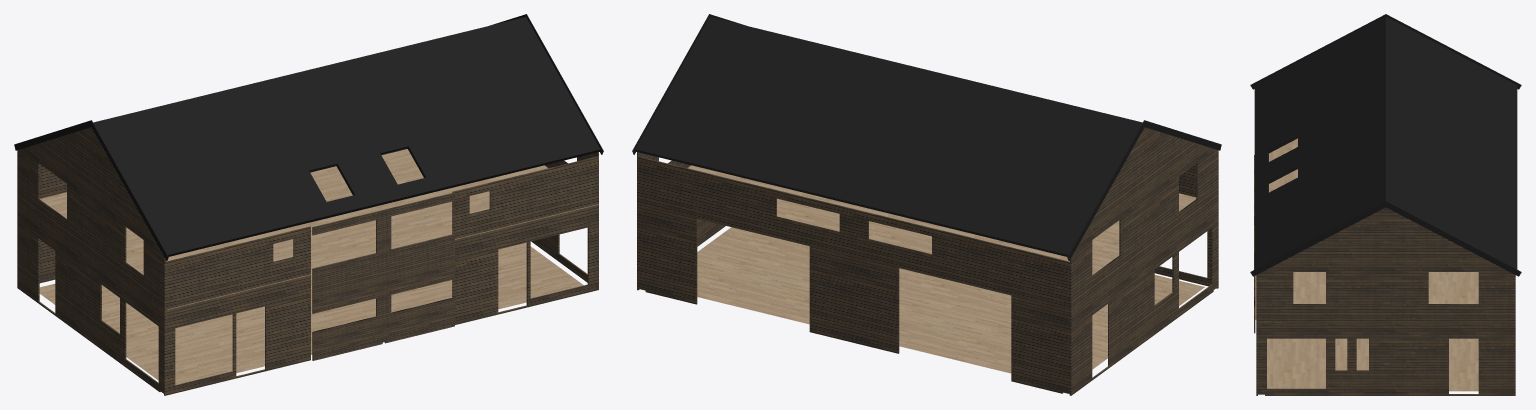
File: webGL_test_01.gltf
3 views of the same model, side by side, from view 1: azimuth 30°, elevation 25°; view 2: azimuth 150°, elevation 25°; view 3: azimuth 270°, elevation 25° (orthographic). The views are drawn at different scales.
Visible parts, largest first — view 1: 301 011, Fasade, Plane002, Fasade_2; view 2: 301 011, Fasade, Plane002; view 3: 301 011, Fasade, Plane002.
Part boxes in pixels (<box>): 301 011: <box>14,14,603,260</box>; Fasade: <box>17,127,598,395</box>; Plane002: <box>39,149,598,384</box>; Fasade_2: <box>312,192,454,360</box>; 301 011: <box>632,14,1221,260</box>; Fasade: <box>637,127,1218,395</box>; Plane002: <box>688,165,1204,373</box>; 301 011: <box>1250,14,1521,276</box>; Fasade: <box>1256,207,1515,395</box>; Plane002: <box>1255,138,1478,391</box>.
Bounding box in the file's own units: 15.19 × 7.39 × 9.31.
3 materials, 2 textured.
